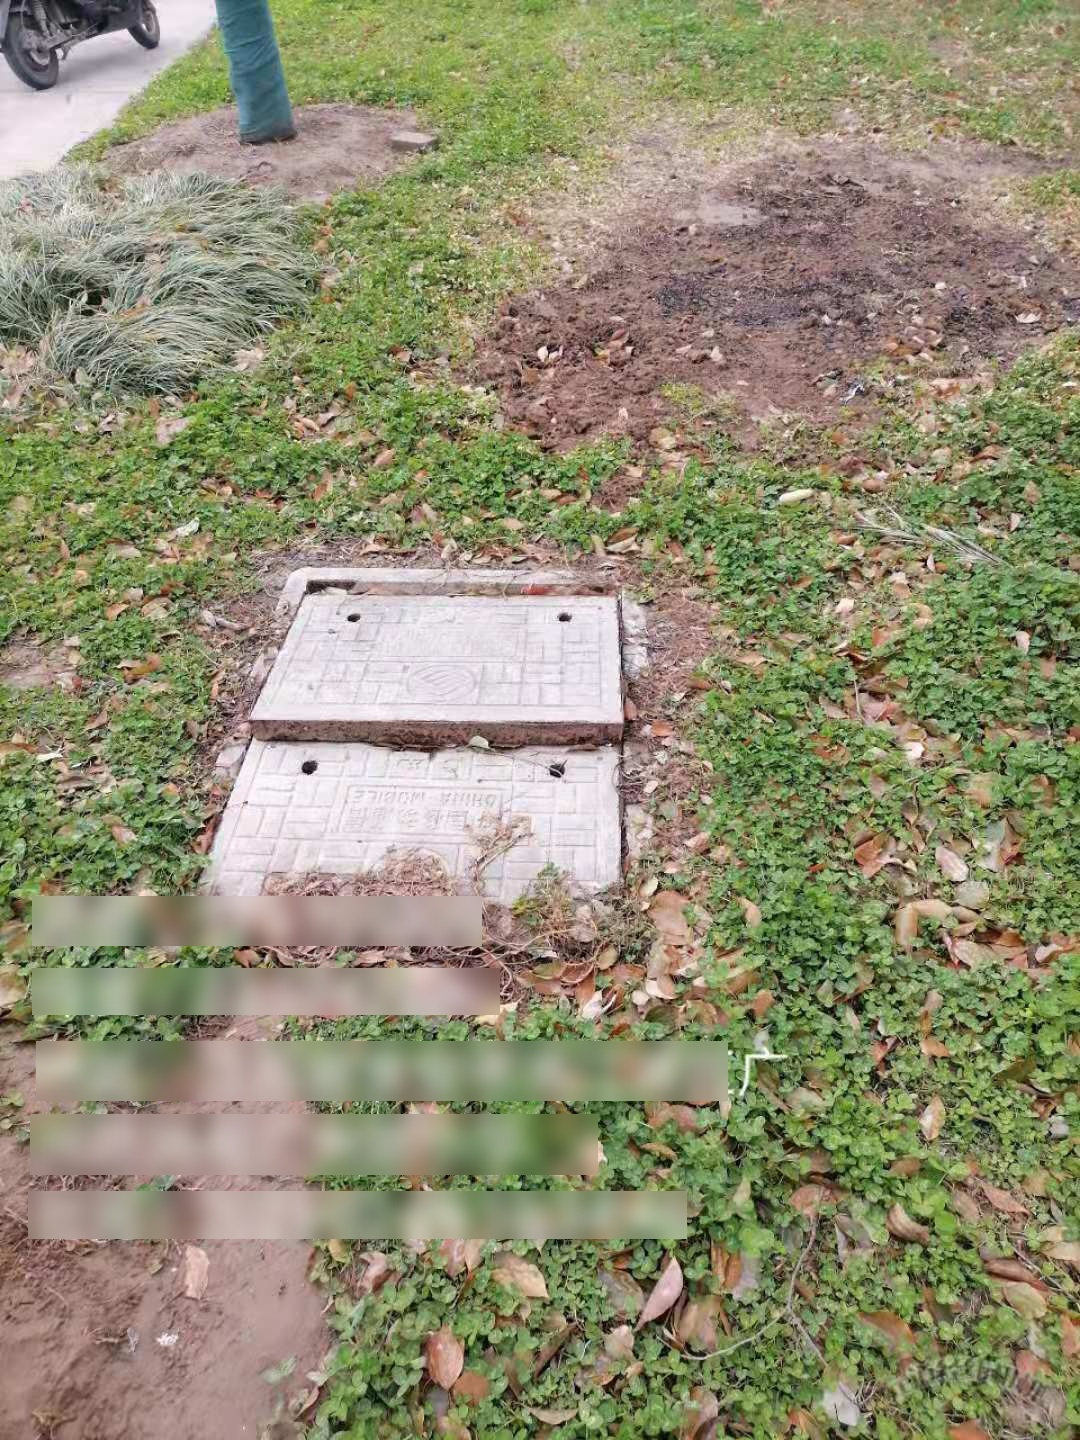uncovered: (230, 535, 687, 905)
